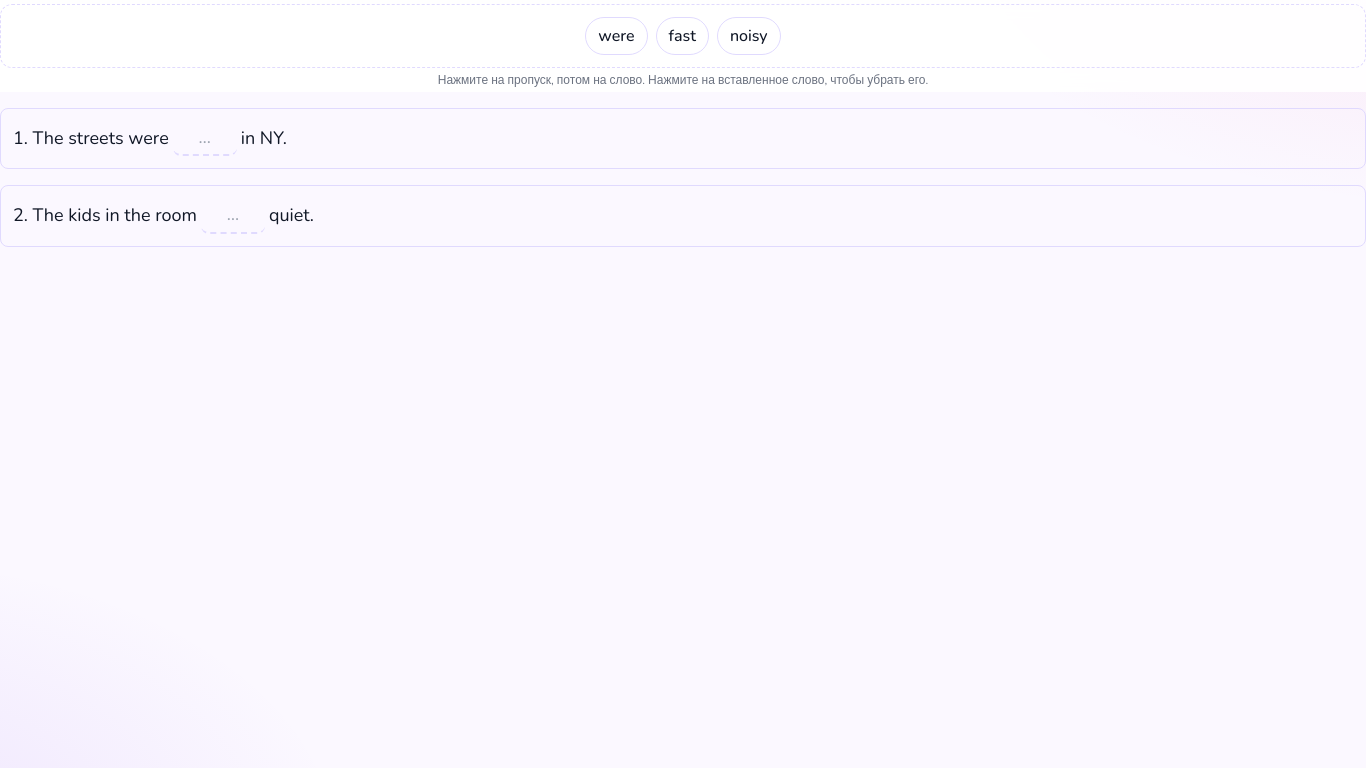
Test case: WordBankExercise (homework) › fills the first empty blank with the tapped word and checks the sentence
The width and height of the screenshot is (1366, 768).
Click the button "fast" at (682,36), box x1=656 y1=17 x2=709 y2=55
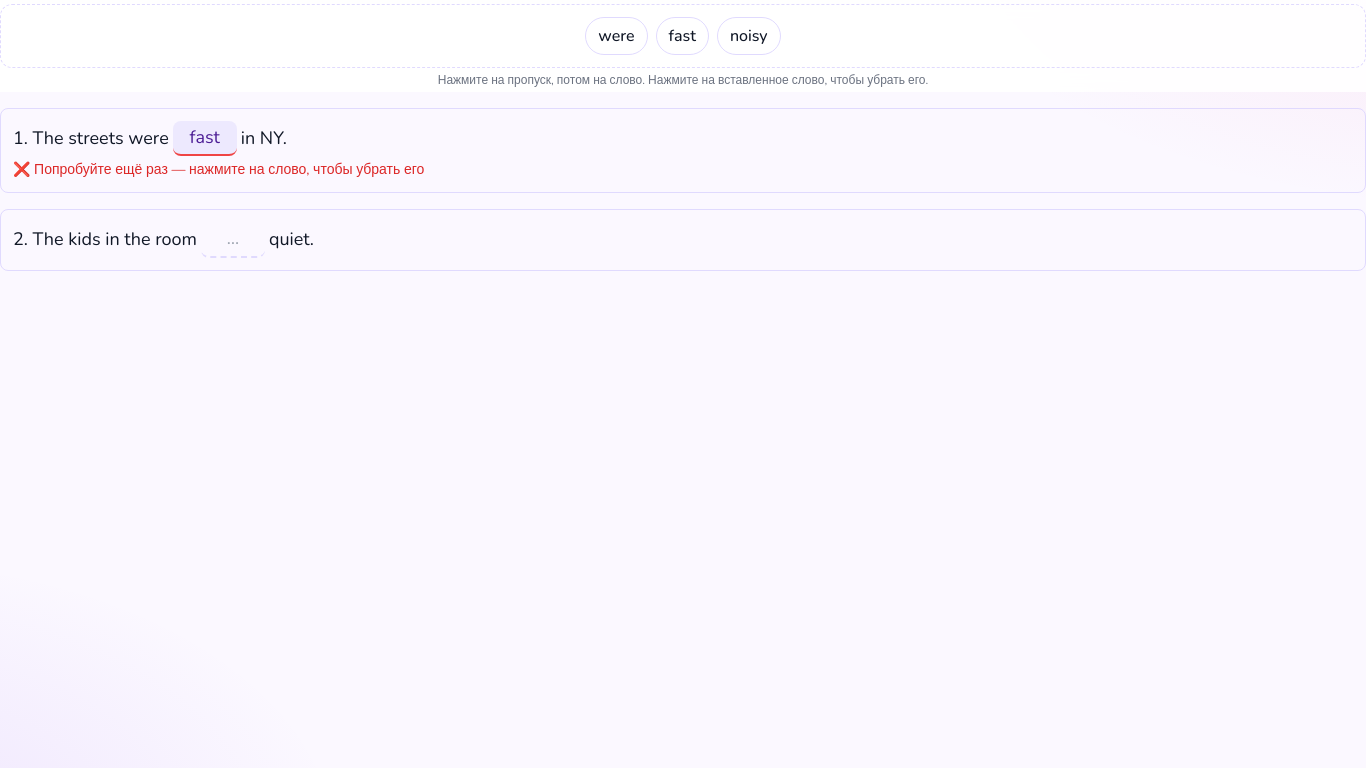
Expected: the text "❌ Попробуйте ещё раз — нажмите на слово, чтобы убрать его" is shown, x1=13 y1=160 x2=424 y2=179
Click the button with aria-label "Пропуск 1" at (205,139), box x1=173 y1=121 x2=237 y2=156
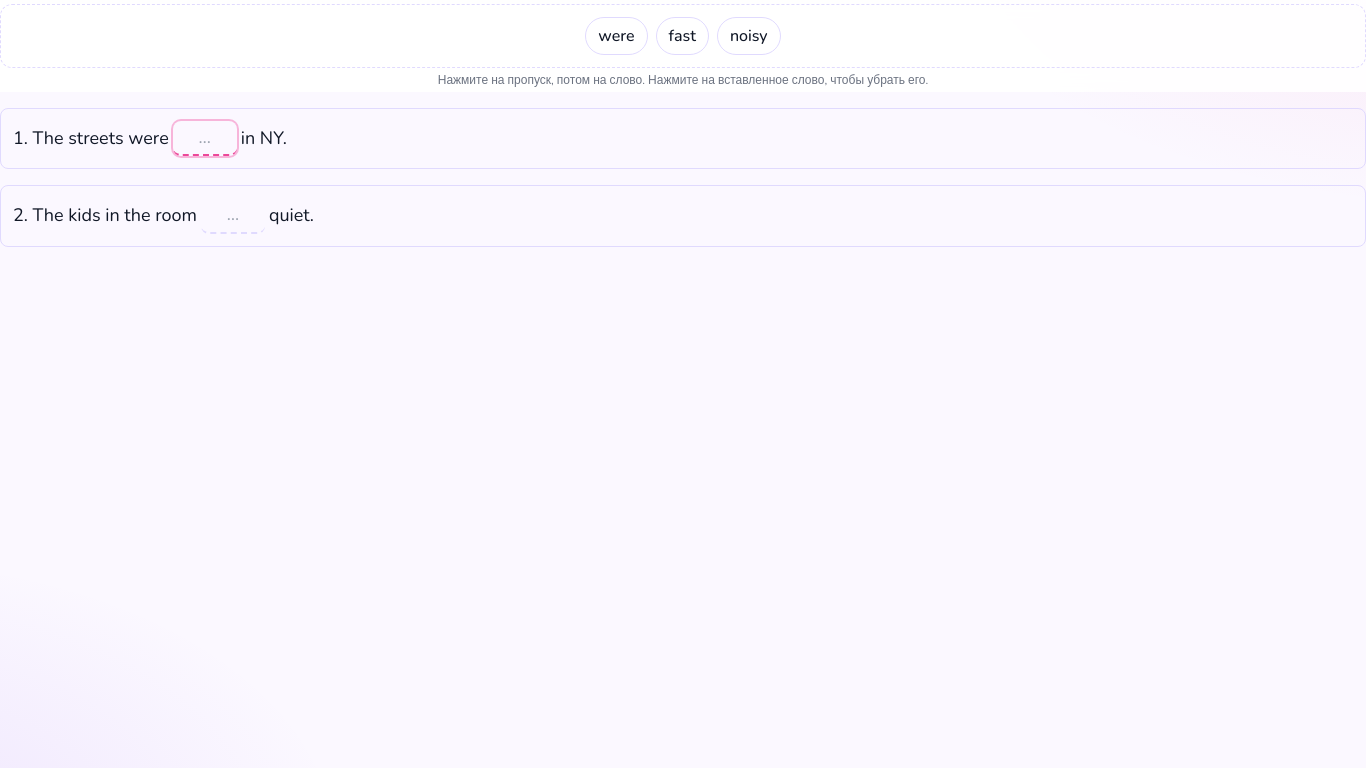
Click the button "noisy" at (749,36), box x1=717 y1=17 x2=781 y2=55
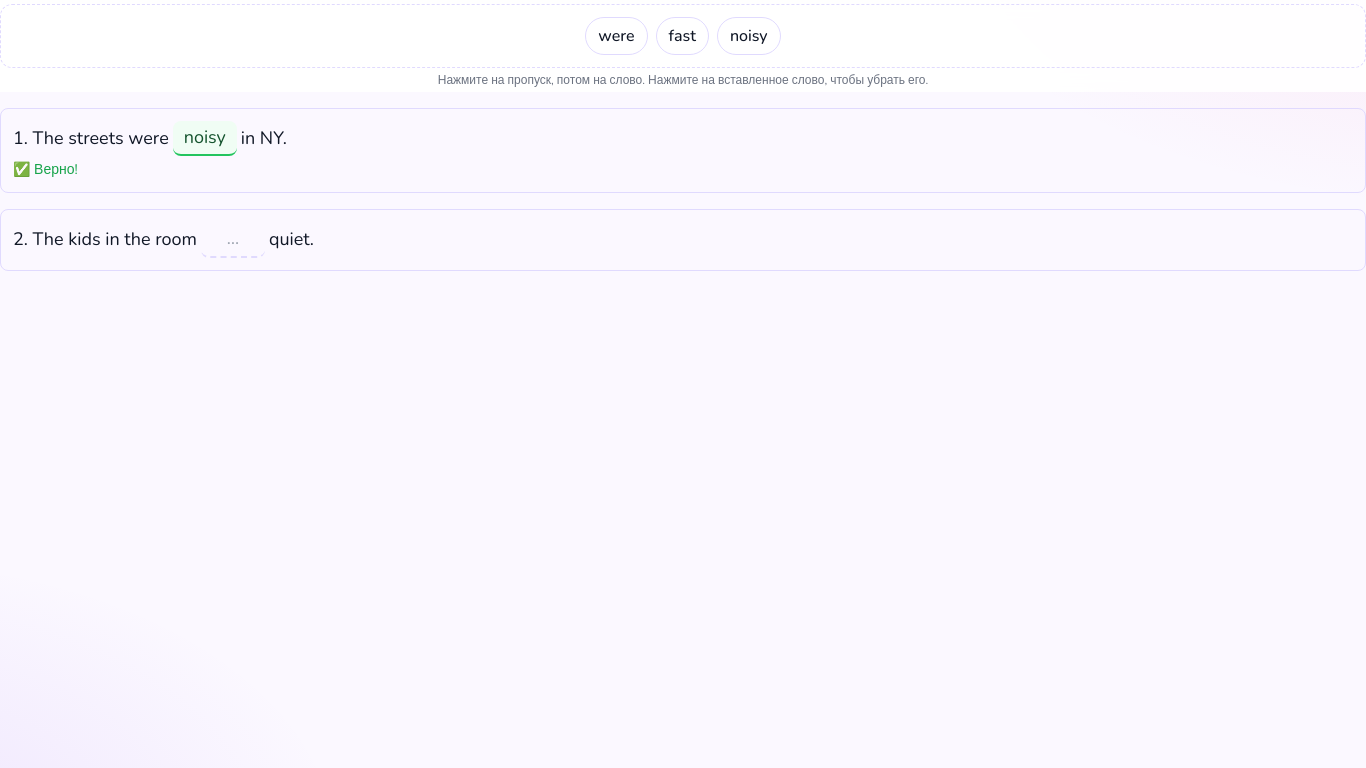
Expected: the text "✅ Верно!" is shown, x1=13 y1=160 x2=78 y2=179
